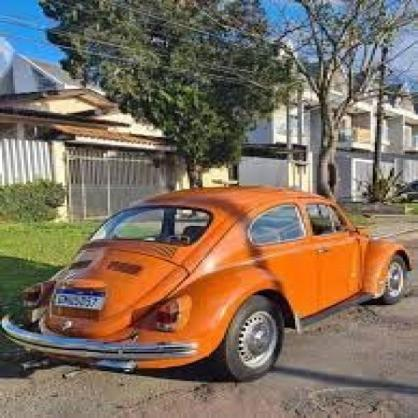car: (6, 186, 409, 386)
